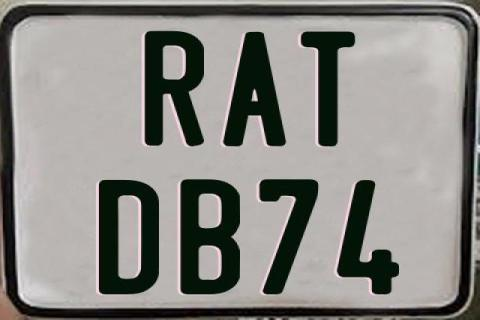0: (337, 179, 405, 295), (258, 178, 320, 298)
A: (220, 32, 288, 150)
B: (181, 178, 240, 294)
D: (96, 178, 159, 294)
R: (144, 31, 209, 149)
T: (298, 29, 357, 144)
